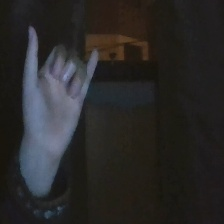Y: (18, 19, 106, 174)
